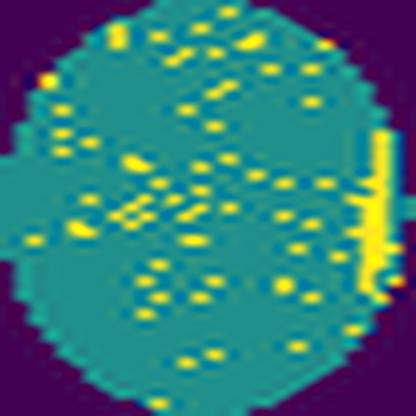Scratch: (340, 124, 407, 309)
